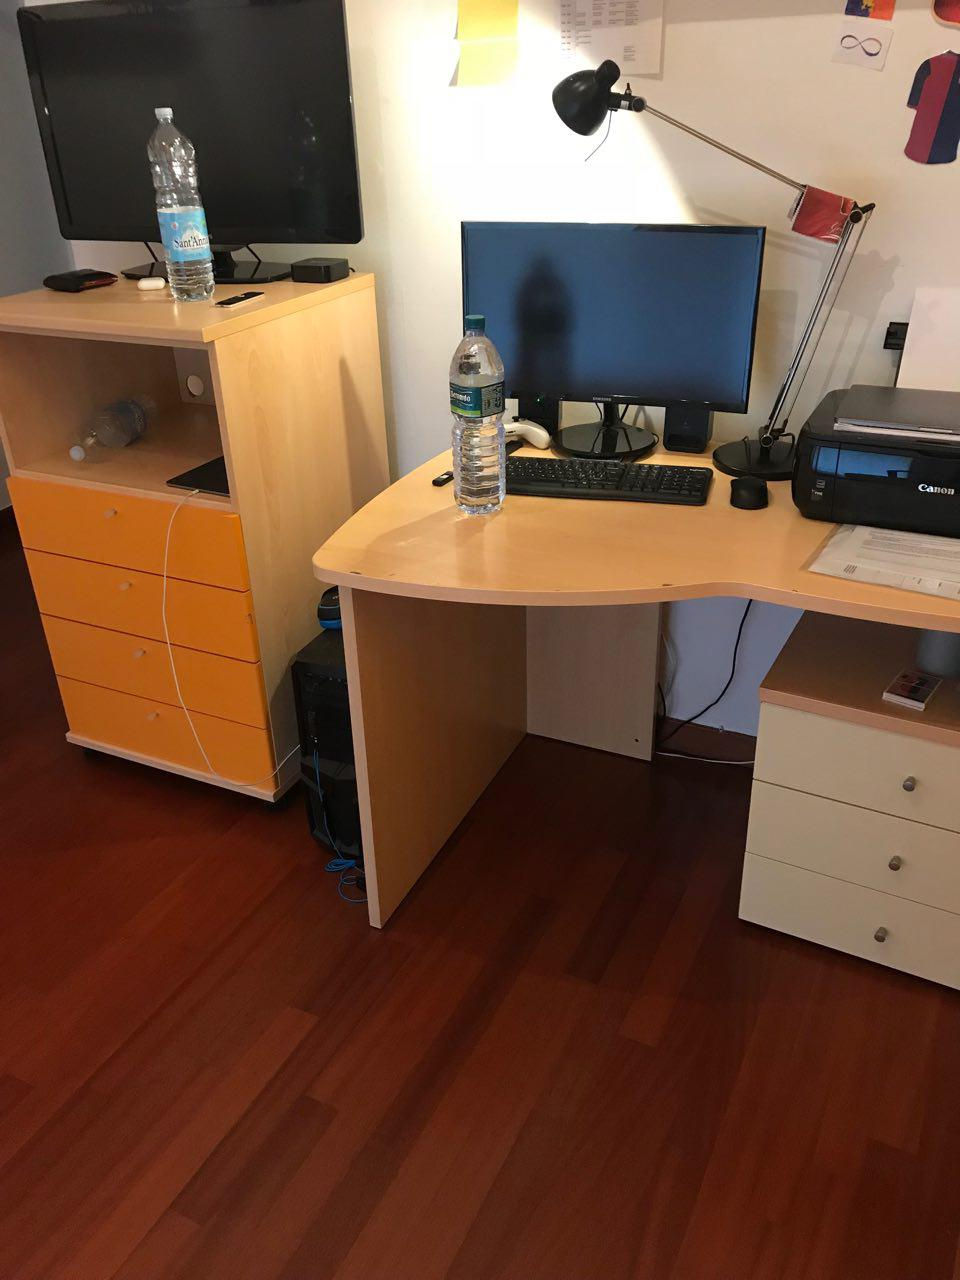san_bernardo: (448, 314, 507, 516)
